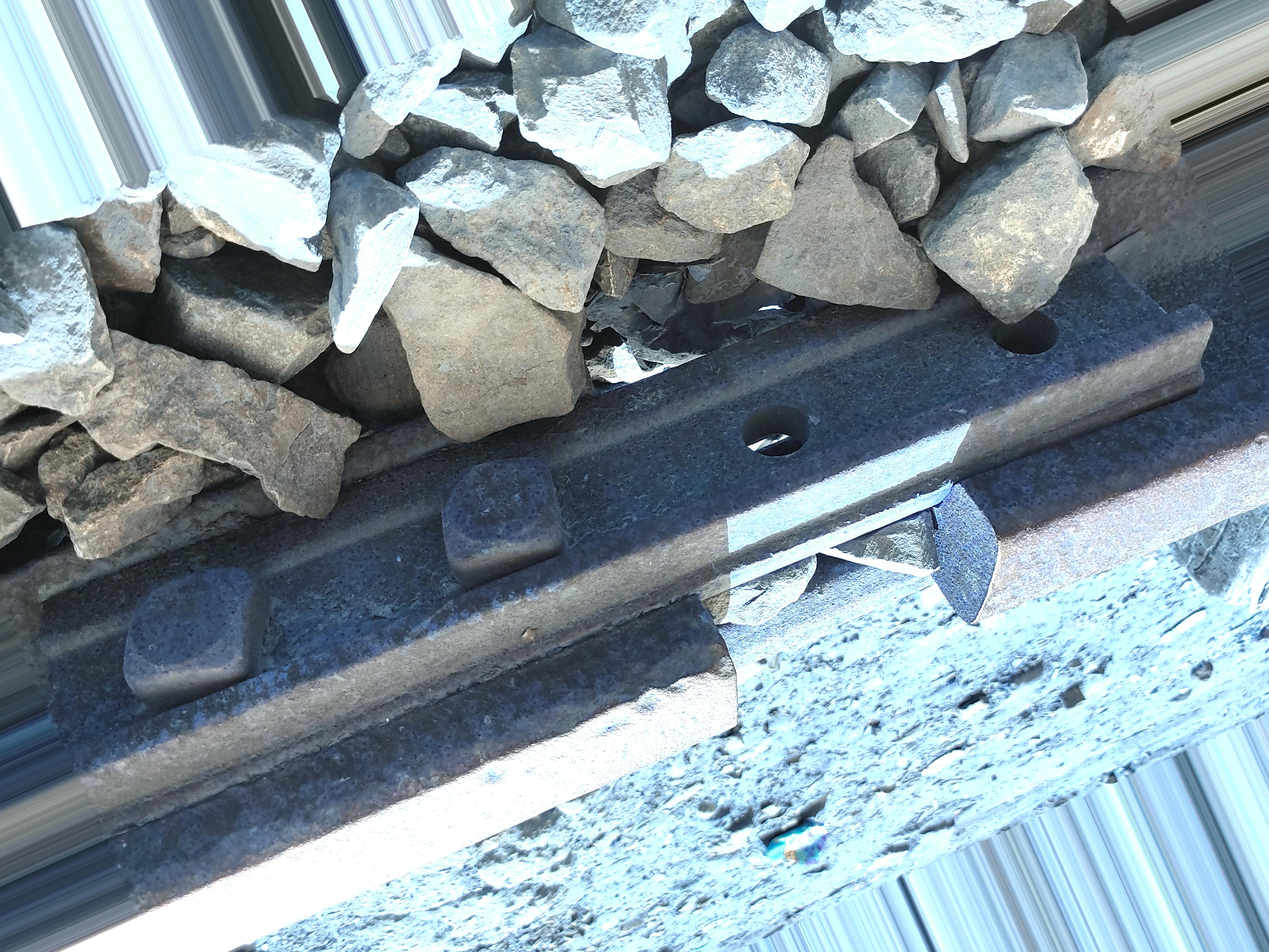tracks_fault: (674, 481, 1014, 741)
